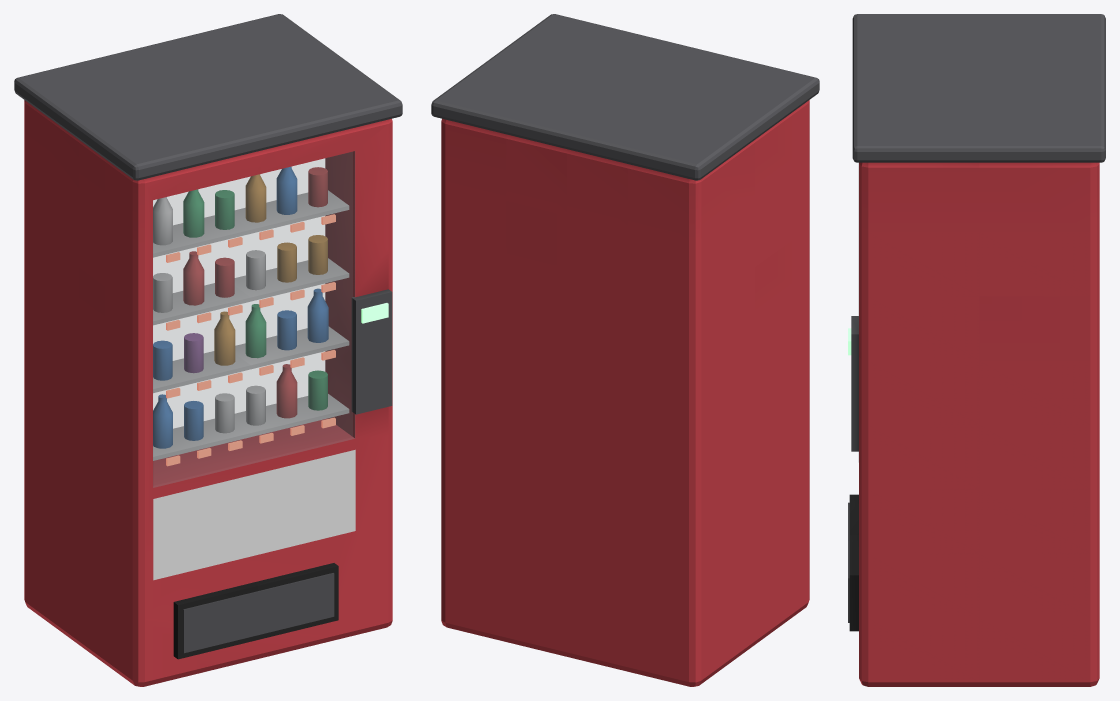
The model's file is st_vending.glb.
3 views of the same model, side by side, from view 1: azimuth 30°, elevation 25°; view 2: azimuth 150°, elevation 25°; view 3: azimuth 270°, elevation 25° (orthographic). The views are drawn at different scales.
Visible parts, largest first — view 1: body, sign_vend; view 2: body; view 3: body.
Boxes of the visible parts, x1,y1,x2,y2 form: body: (14, 14, 402, 686); sign_vend: (153, 449, 355, 580); body: (431, 14, 819, 686); body: (848, 14, 1105, 686).
Bounding box in the file's own units: 1.04 × 1.95 × 0.835.
